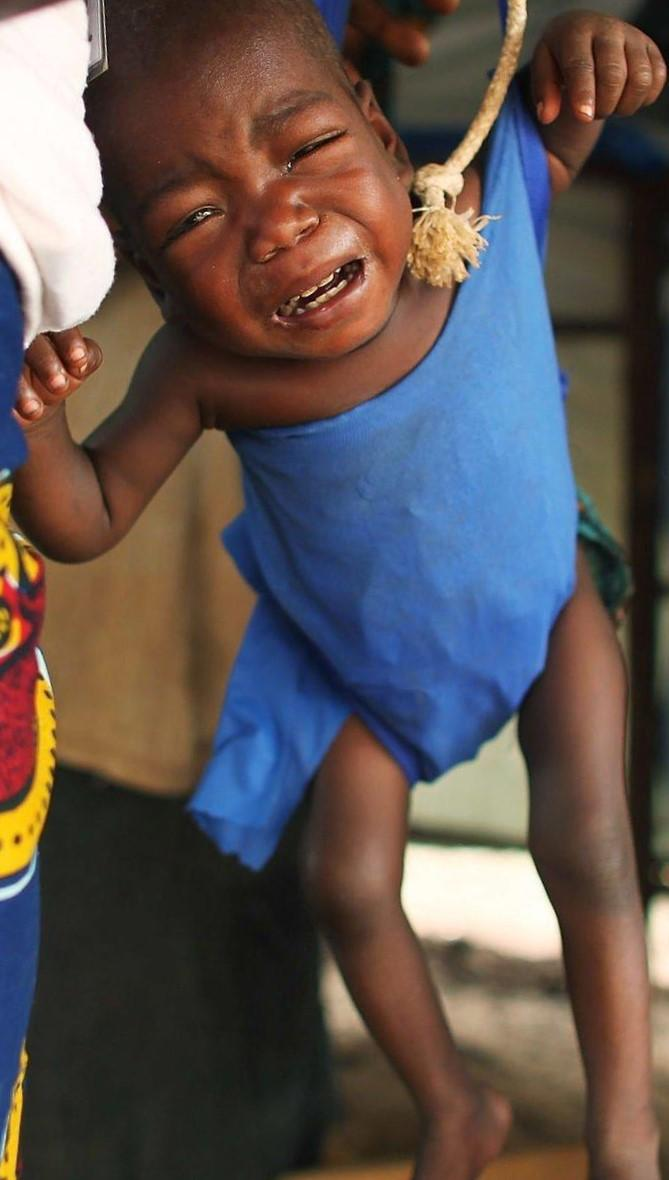Stunting: (47, 0, 477, 410)
